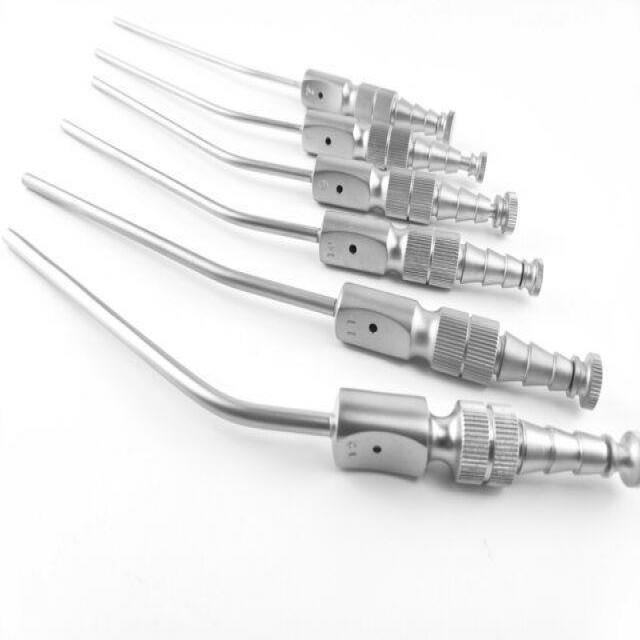Frazier: (4, 225, 640, 490), (20, 172, 605, 412), (58, 117, 546, 299), (89, 68, 521, 238), (90, 40, 489, 183), (112, 12, 456, 144)
